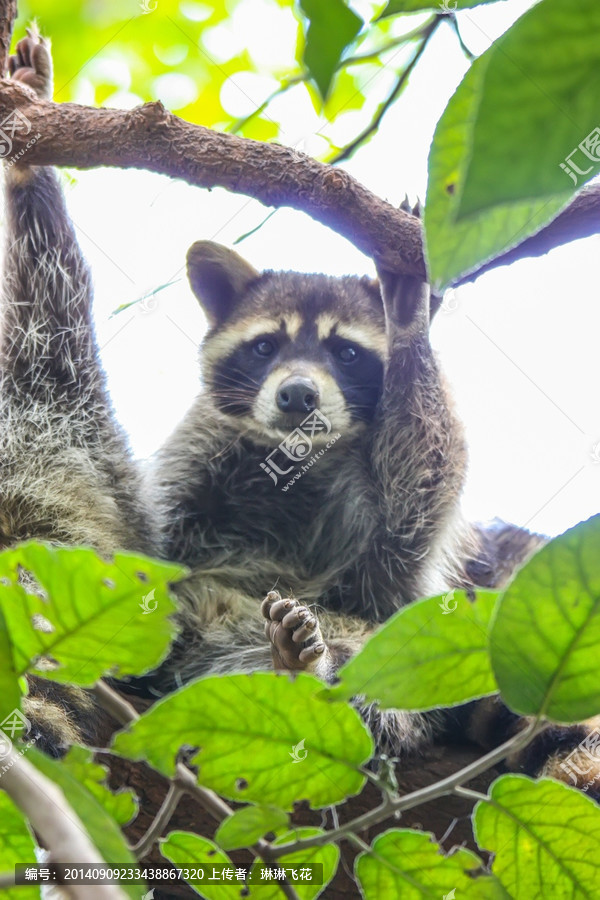raccoon: (2, 25, 465, 770)
